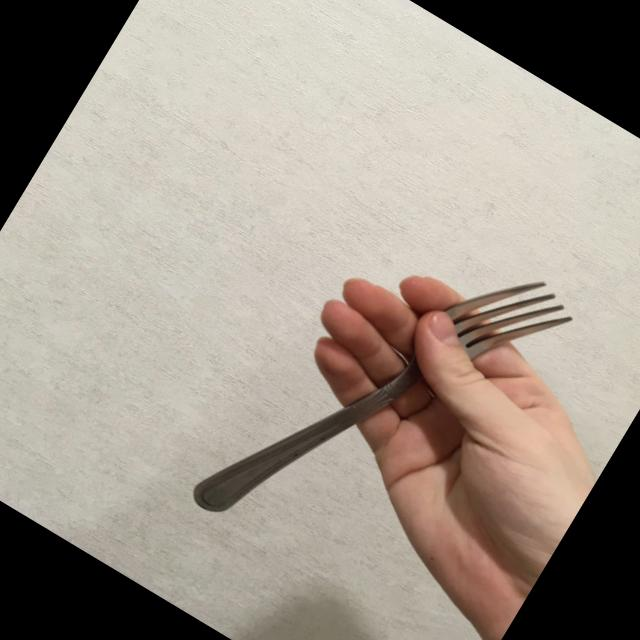fork: (184, 179, 586, 626)
